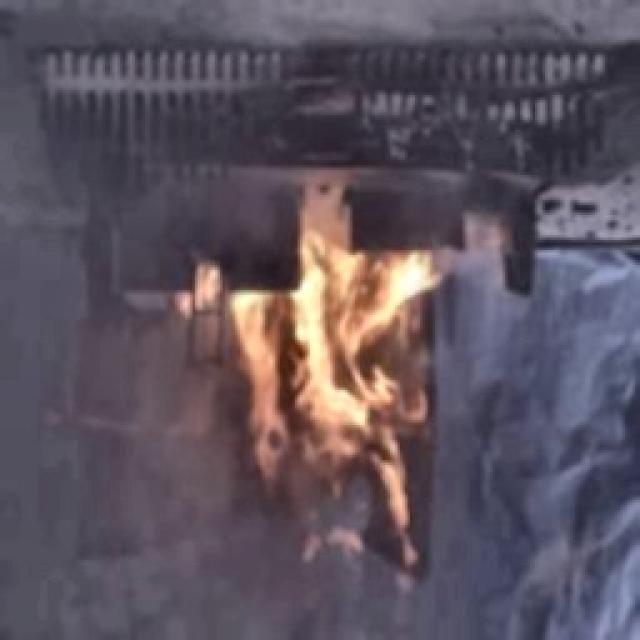fire: (246, 218, 444, 572)
